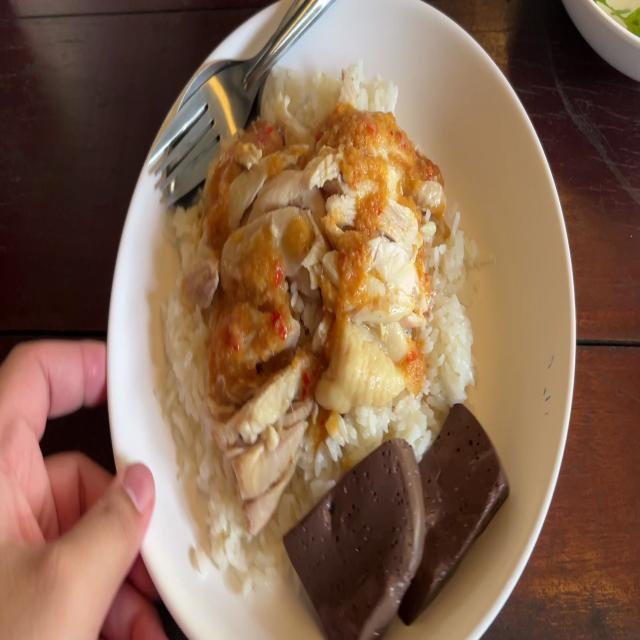boiled_chicken: (221, 119, 406, 412)
boiled_chicken_blood_jelly: (291, 441, 417, 639), (404, 398, 512, 594)
chicken_rice: (164, 69, 516, 620)
